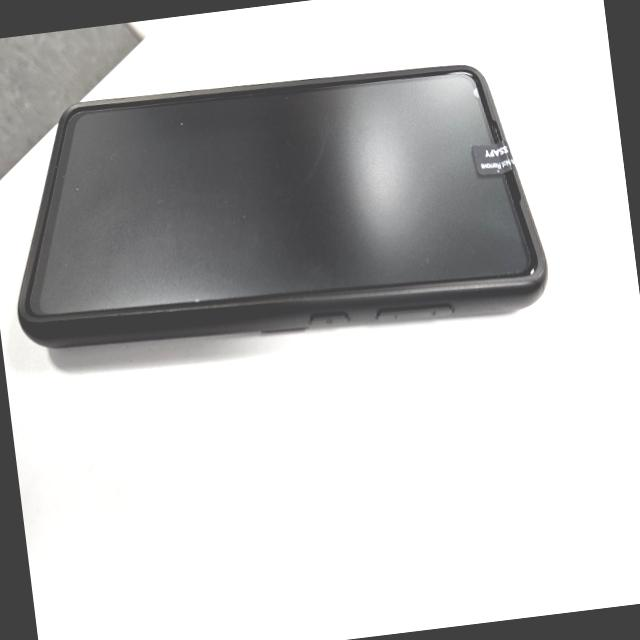phone: (0, 46, 555, 372)
sticker: (467, 132, 518, 184)
